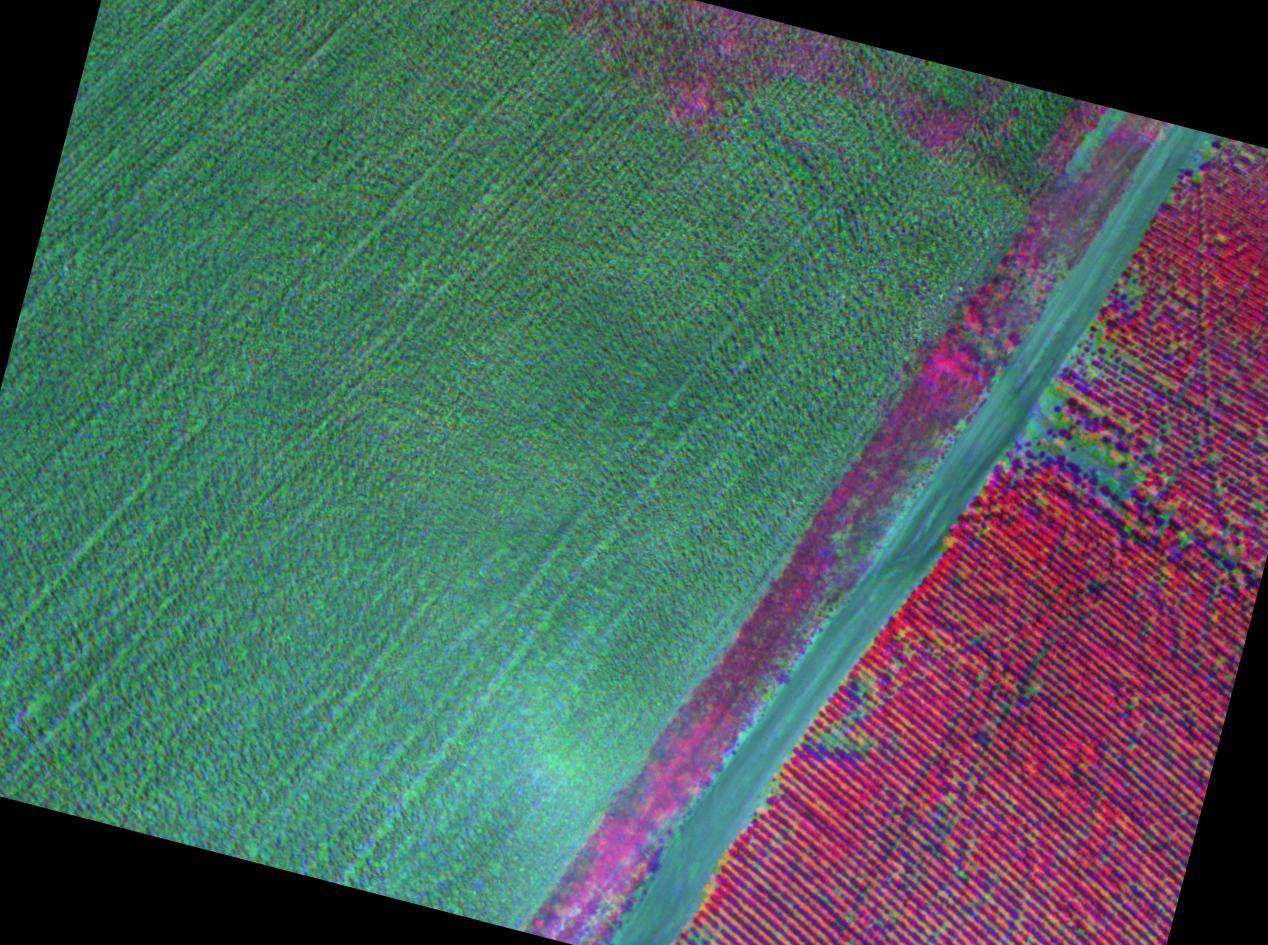dc: (1079, 452, 1085, 460), (1038, 423, 1042, 429), (1096, 450, 1100, 455), (828, 739, 832, 744), (1029, 688, 1033, 692), (1130, 478, 1133, 483), (764, 803, 767, 808), (958, 872, 963, 875), (1126, 528, 1129, 532), (906, 649, 909, 652)
